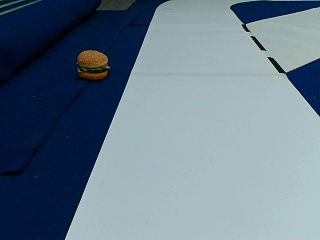burger: (77, 48, 108, 79)
